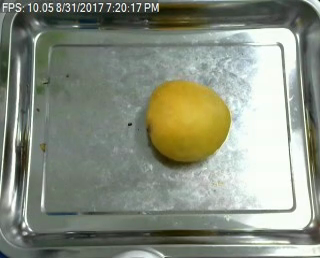Mango: (147, 79, 231, 163)
